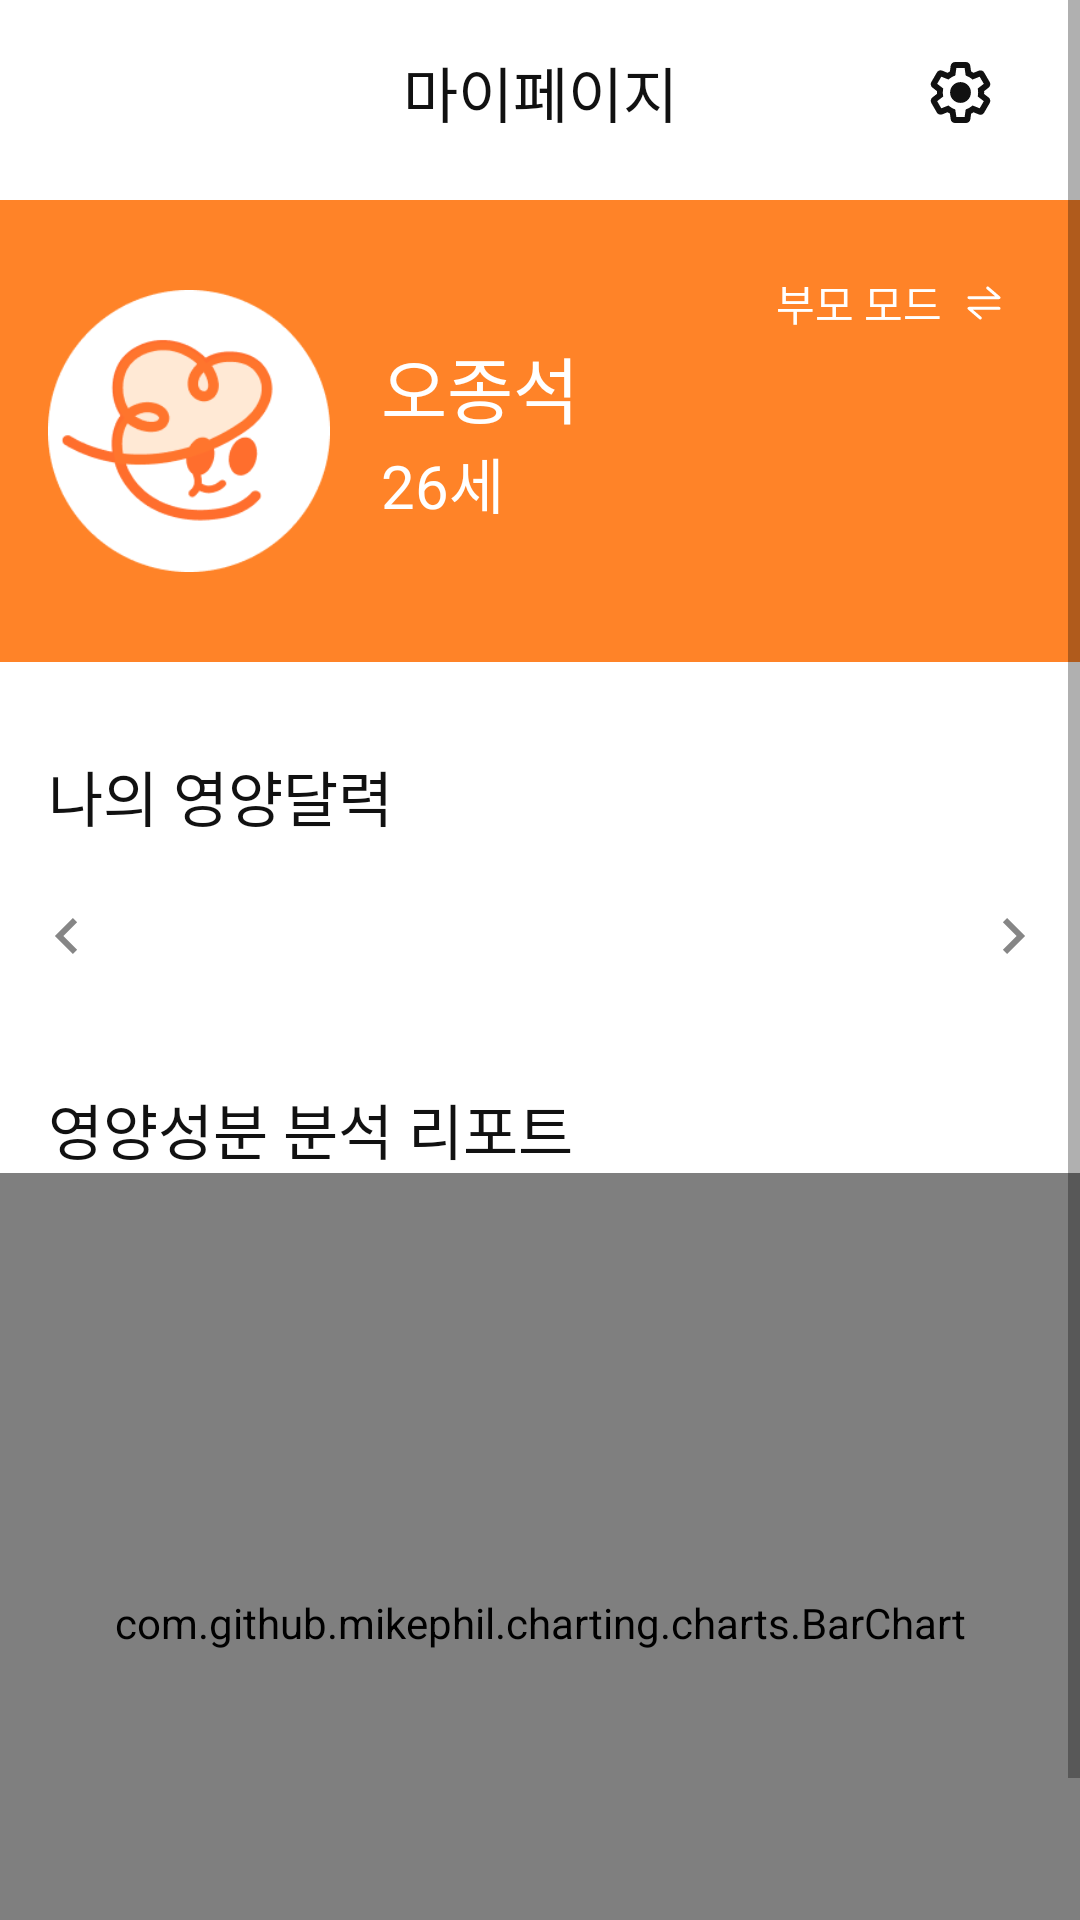

Icons on this 1080*1920 Android screen, each with the point to tap as point (x, y):
profile: point (189, 431)
setting: point (960, 92)
다음: point (1014, 936)
이전: point (66, 936)
